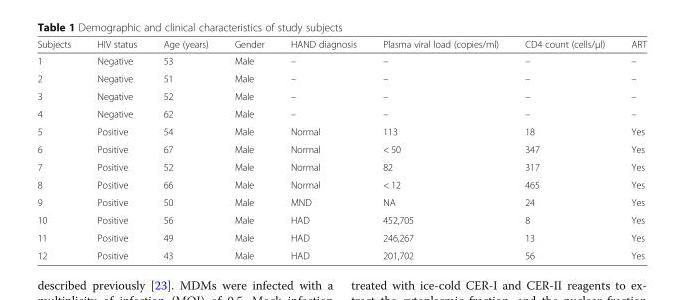table: (36, 37, 646, 260)
table column: (369, 37, 511, 260), (511, 37, 617, 260), (276, 37, 369, 260), (149, 37, 220, 260), (83, 37, 149, 260), (220, 37, 276, 260), (36, 37, 83, 260), (617, 37, 646, 260)
table column header: (36, 37, 646, 52)
table row: (36, 86, 646, 104), (36, 104, 646, 122), (36, 122, 646, 140), (36, 157, 646, 175), (36, 175, 646, 193), (36, 210, 646, 228), (36, 228, 646, 246), (36, 52, 646, 69), (36, 69, 646, 86), (36, 140, 646, 157), (36, 193, 646, 210), (36, 37, 646, 52), (36, 246, 646, 260)
